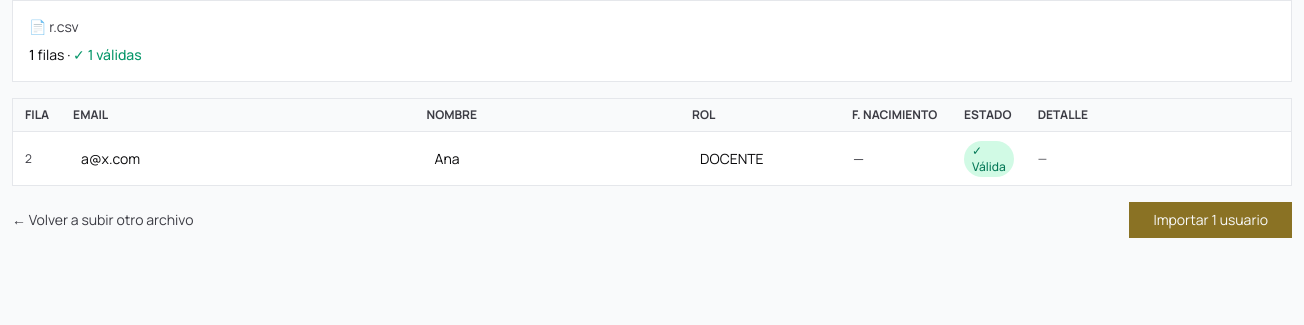
Test: CsvPreviewTable › muestra error del backend cuando la importación falla
Click the button "Importar 1 usuario" at (1211, 220), box [1129, 202, 1292, 238]
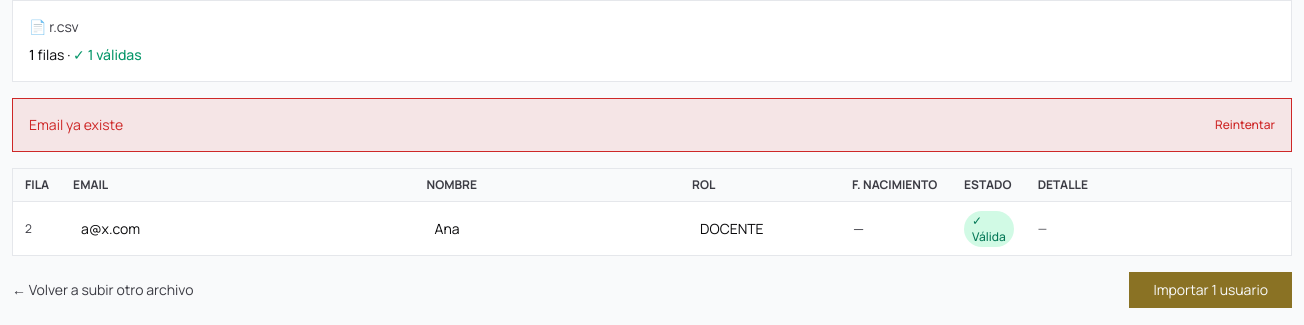
expect the text "Email ya existe" is shown: met, box [29, 115, 123, 135]
